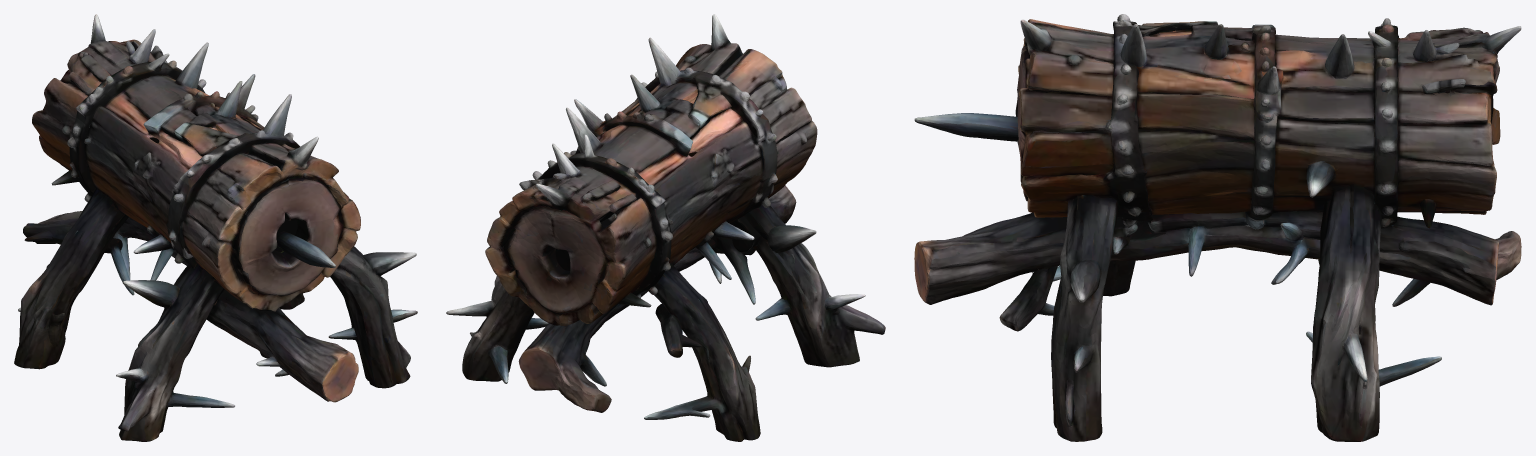
Rendered from orc_spike_barricade_01.glb.
3 views of the same model, side by side, from view 1: azimuth 30°, elevation 25°; view 2: azimuth 150°, elevation 25°; view 3: azimuth 270°, elevation 25° (orthographic). The views are drawn at different scales.
Parts seen in each view (by area): view 1: geometry_0; view 2: geometry_0; view 3: geometry_0.
Part boxes in pixels (<box>): geometry_0: <box>14,14,417,441</box>; geometry_0: <box>446,14,885,441</box>; geometry_0: <box>914,14,1521,441</box>.
Bounding box in the file's own units: 0.742 × 0.656 × 1.
Materials: 1 (1 with a texture image).
